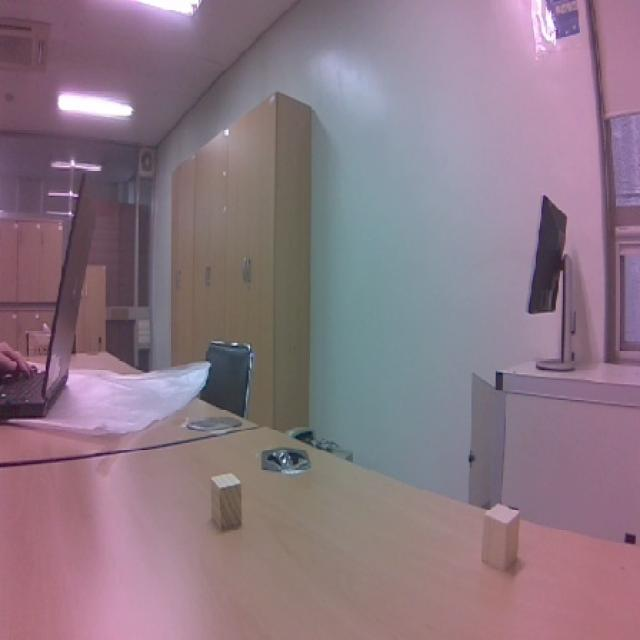obstacle: (466, 500, 534, 585), (199, 469, 248, 541)
